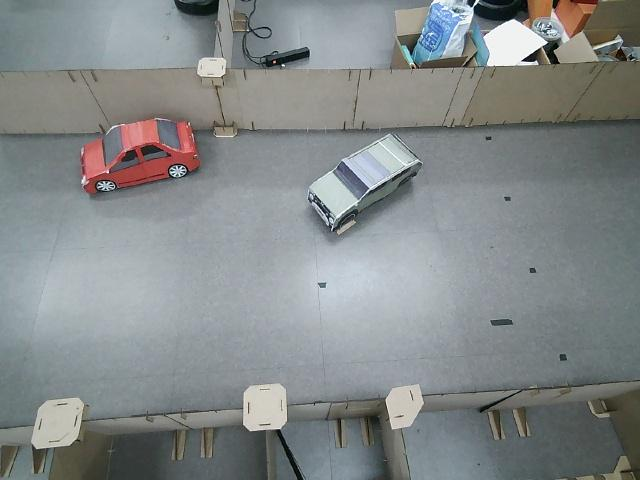car: (297, 129, 430, 234), (76, 114, 208, 204)
